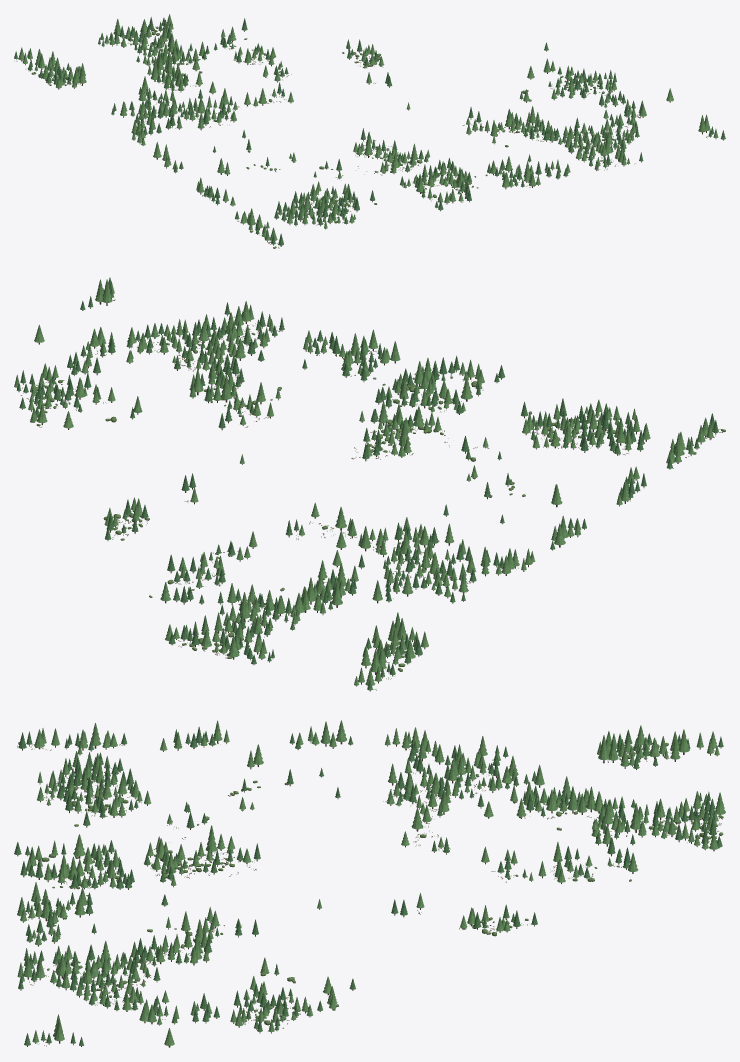
File: Foliage_P1.fbx
3 views of the same model, one above another, from view 1: azimuth 30°, elevation 25°; view 2: azimuth 150°, elevation 25°; view 3: azimuth 270°, elevation 25° (orthographic). The views are drawn at different scales.
Size of the model in its own units: 61611 by 5160 by 61526.
